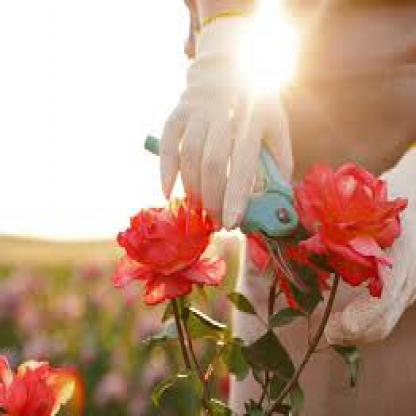Rose-Mawar: (95, 166, 411, 361), (1, 350, 84, 415)
